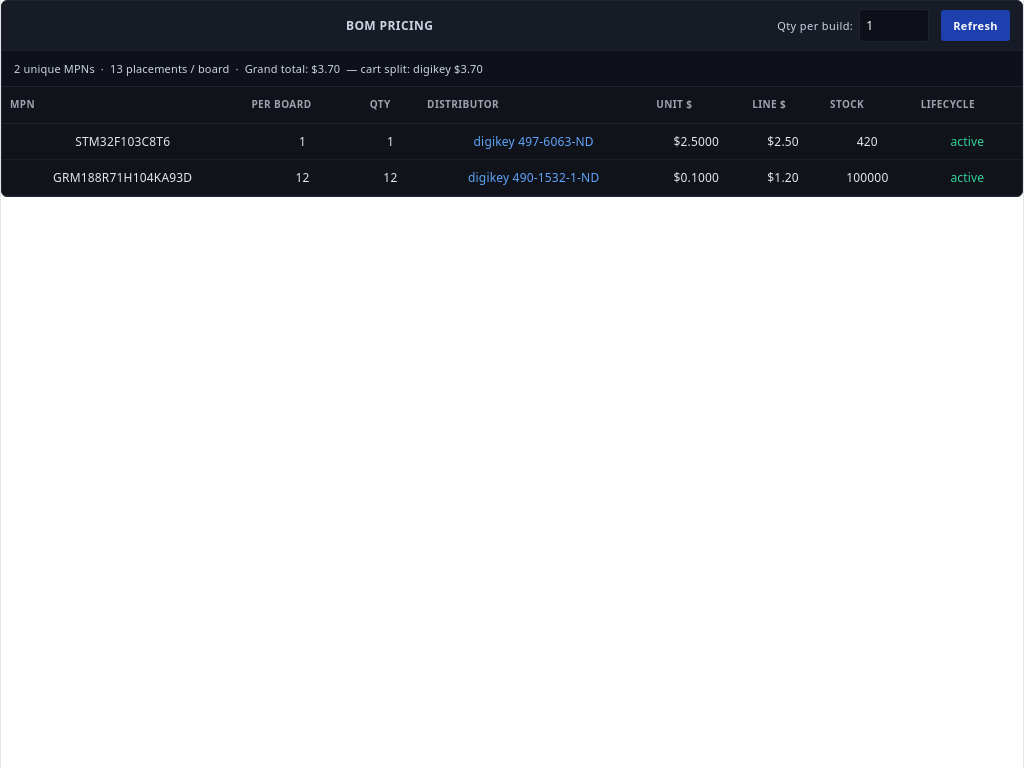
BomView (M3-T-08) › surfaces server errors in a banner and keeps rows from any prior load
expect the number of rows with test id "bom-row" is 2: met, box [2, 123, 1022, 159]; [2, 159, 1022, 196]
Click the button with test id "bom-refresh" at (976, 26), box [941, 10, 1010, 41]
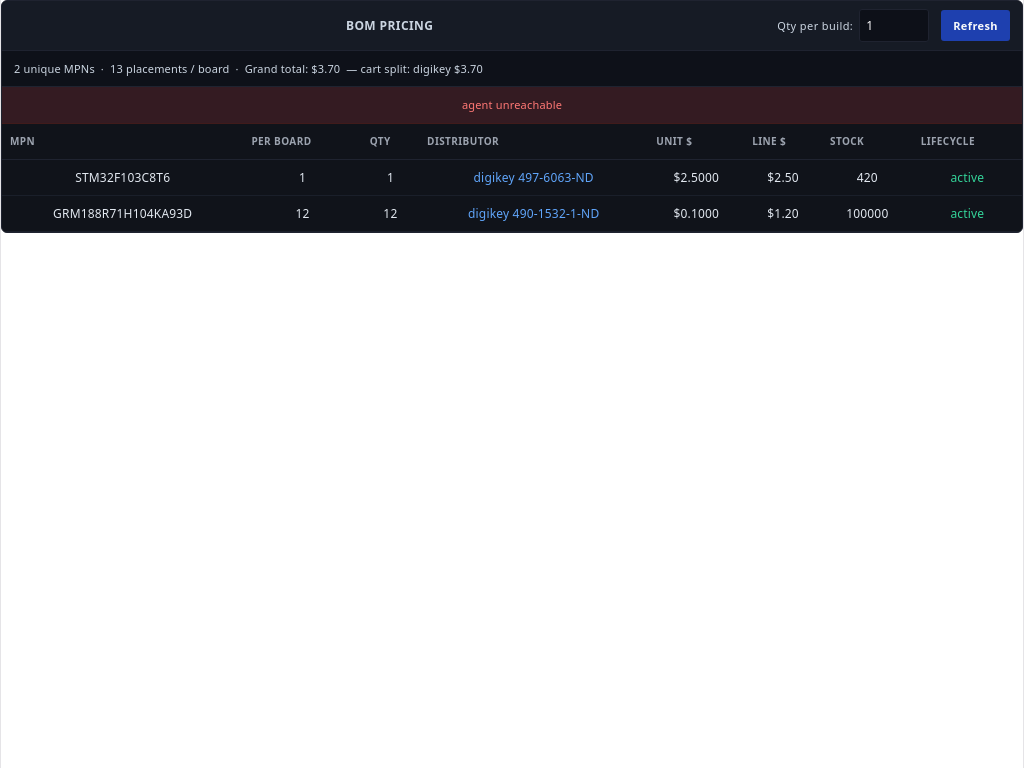
expect the number of rows with test id "bom-row" is 2: met, box [2, 159, 1022, 196]; [2, 196, 1022, 232]
expect the text "agent unreachable" is shown: met, box [2, 87, 1022, 124]
expect the text with test id "bom-error" reads "agent unreachable": met, box [462, 97, 562, 112]
